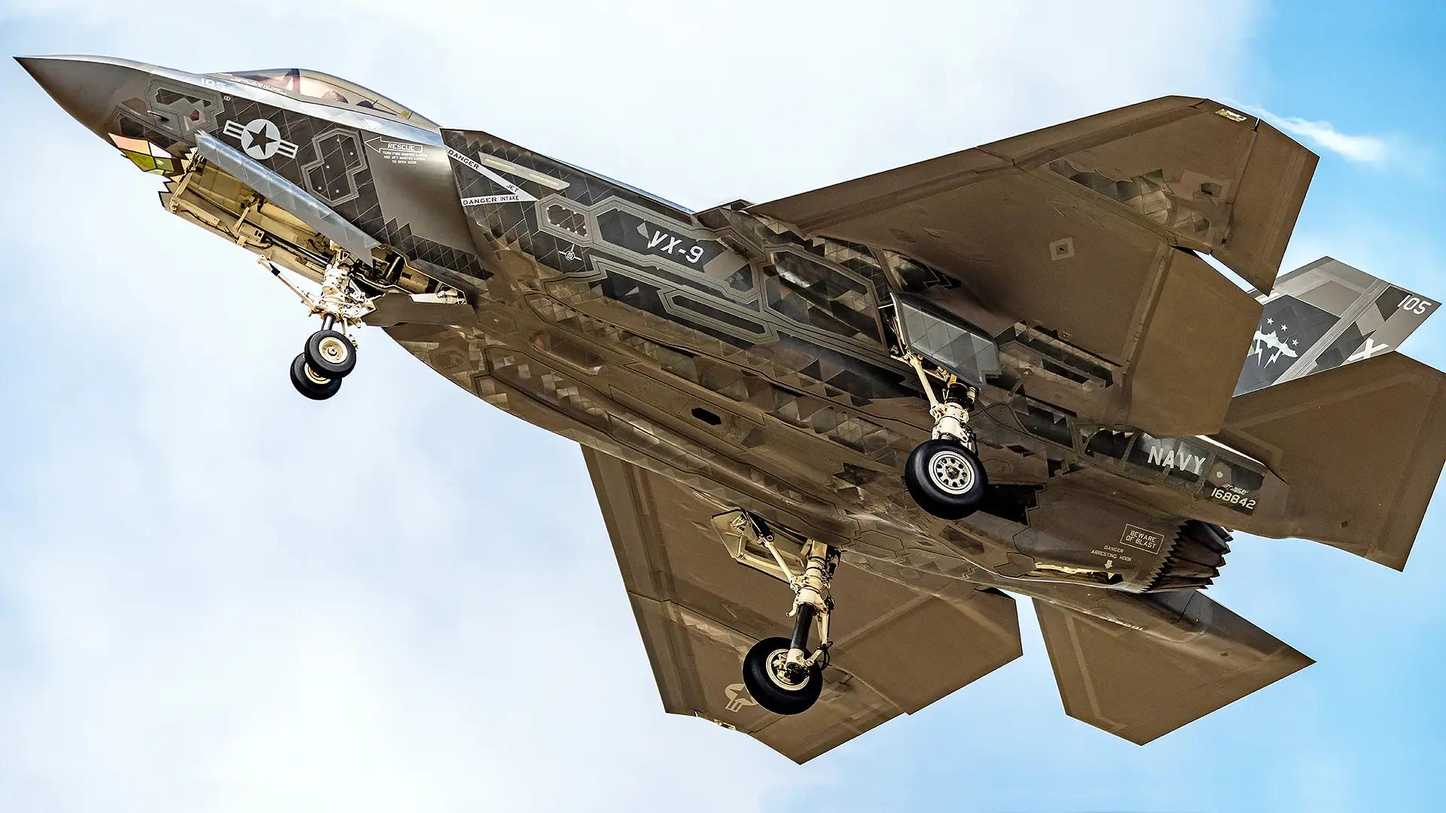F35: (11, 51, 1446, 767)
